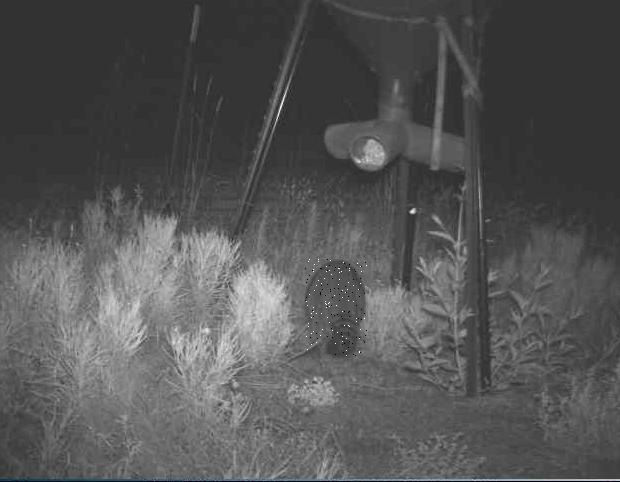Raccoon: (306, 260, 368, 357)
